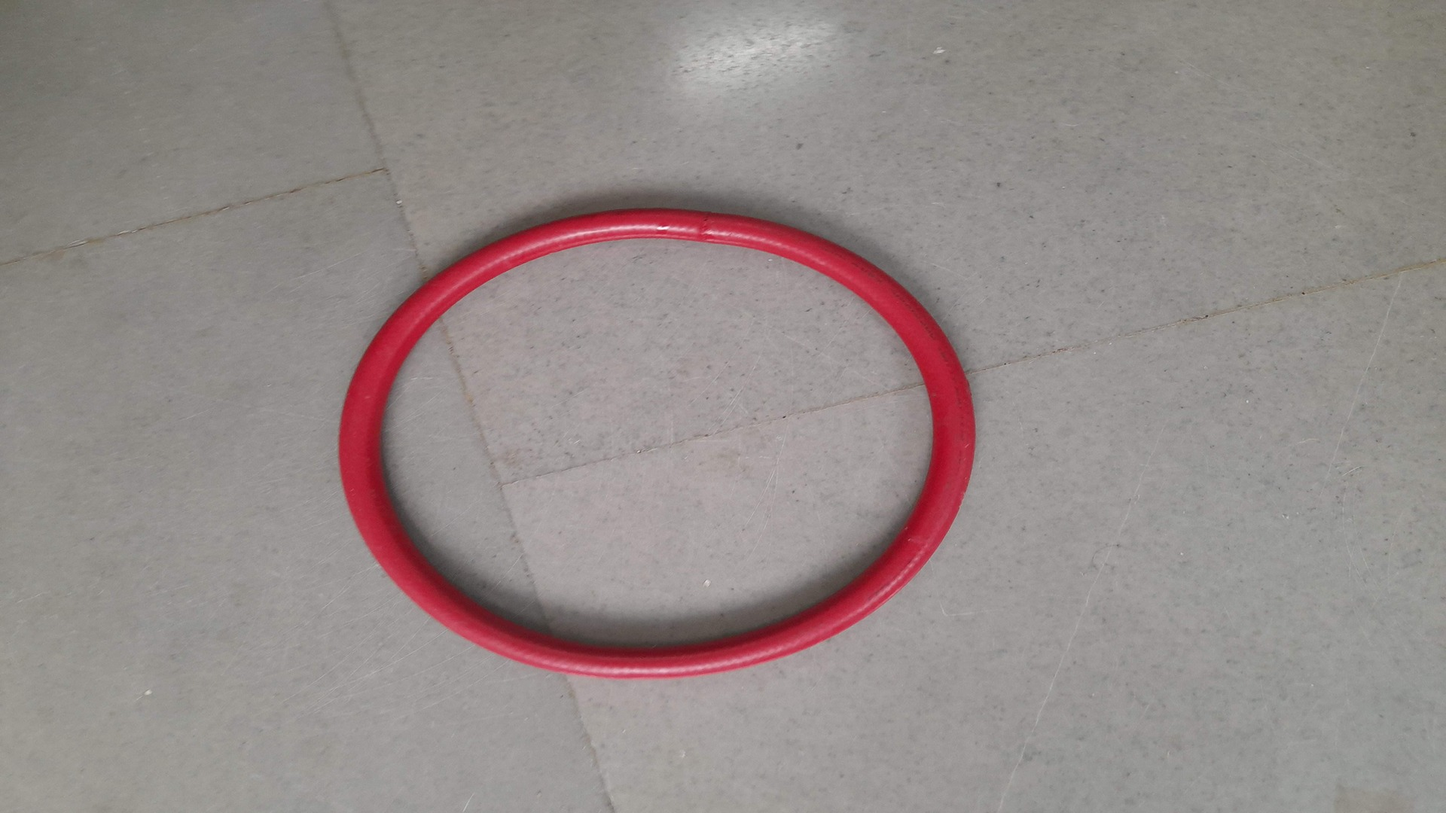Red ring: (340, 209, 978, 675)
